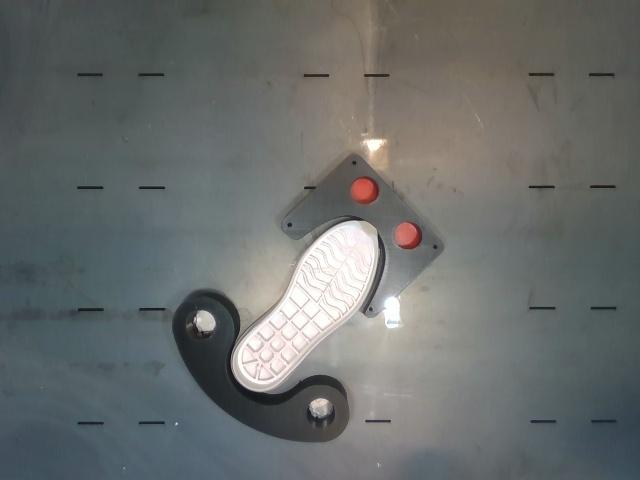shoes: (233, 221, 378, 390)
